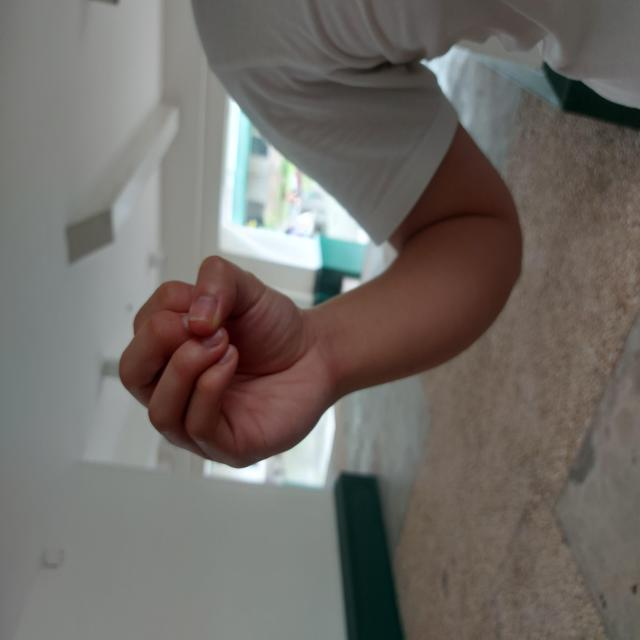O: (172, 116, 388, 334)
